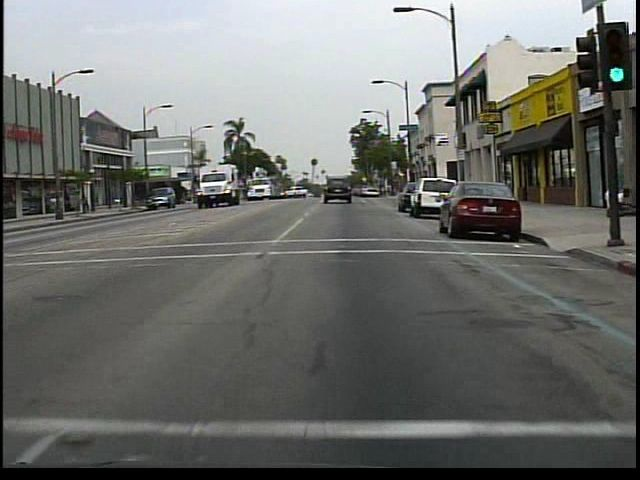person: (599, 180, 619, 217), (82, 190, 92, 216)
